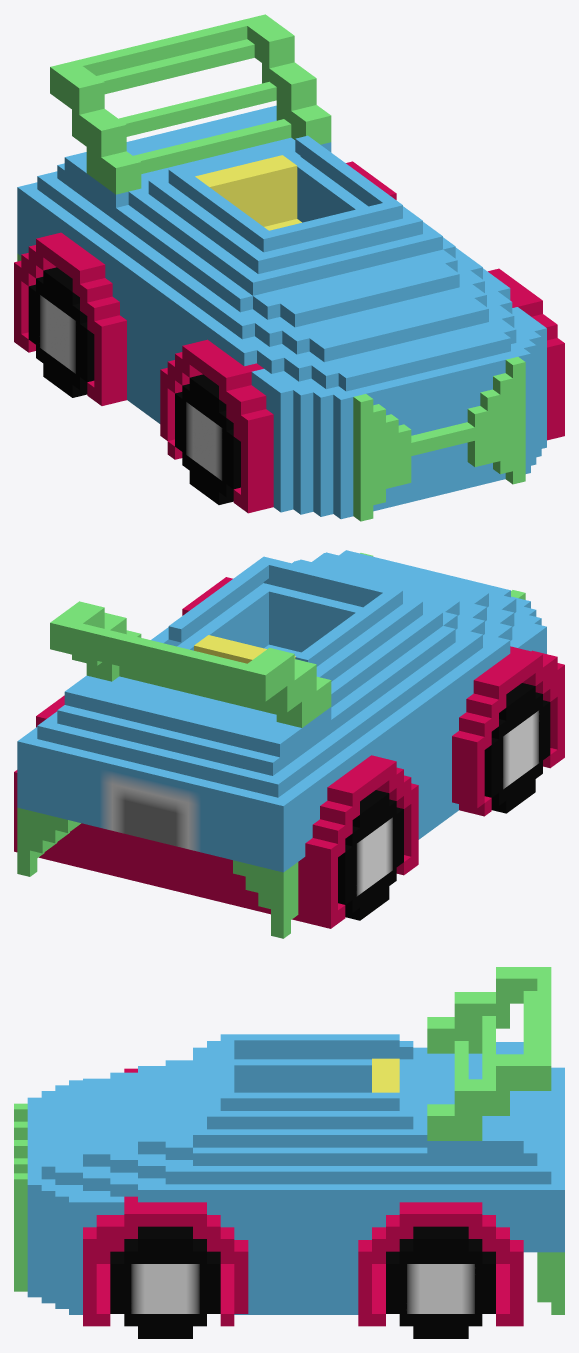
The model's file is Car_47.fbx.
3 renders of one model, top to bottom at view 1: azimuth 30°, elevation 25°; view 2: azimuth 150°, elevation 25°; view 3: azimuth 270°, elevation 25°, orthographic. The views are drawn at different scales.
Parts seen in each view (by area): view 1: Car_47; view 2: Car_47; view 3: Car_47.
Boxes of the visible parts, x1,y1,x2,y2 form: Car_47: (14, 14, 564, 521); Car_47: (14, 550, 564, 938); Car_47: (14, 967, 564, 1338).
Size of the model in its own units: 25 by 20 by 40.
1 material, 1 textured.
